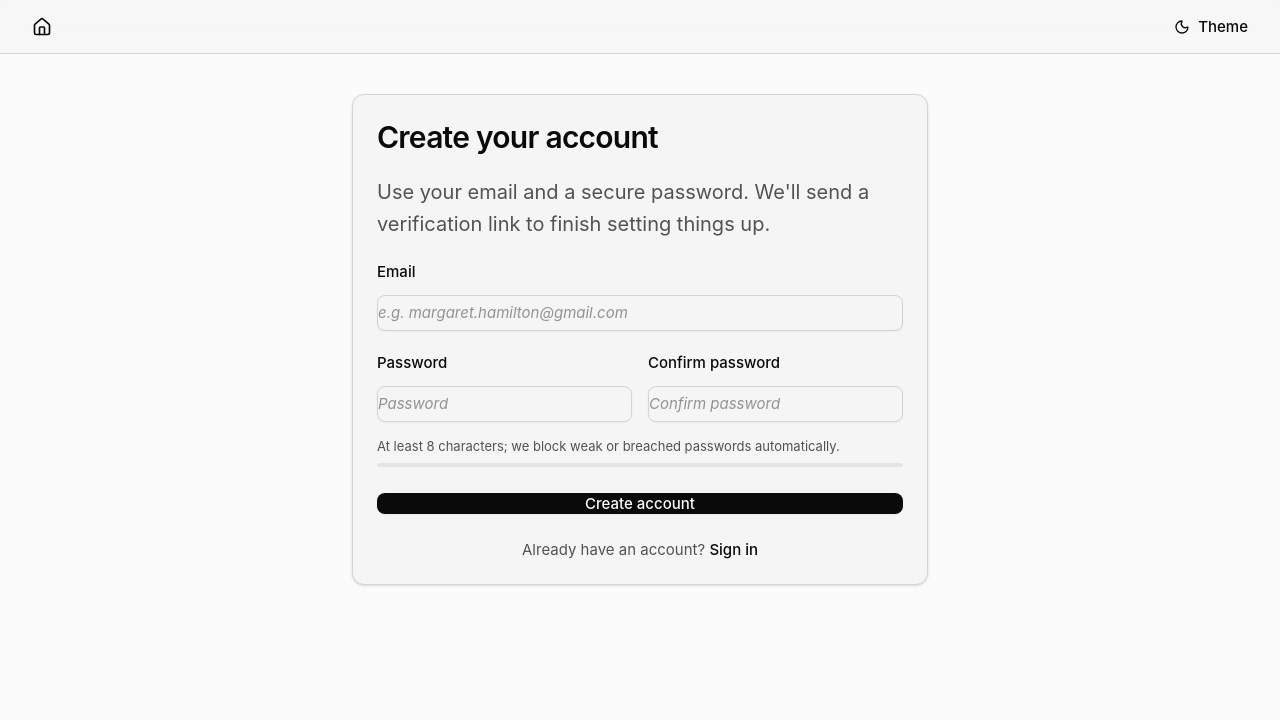
Test: SignUp › requires matching passwords
Type "ada@gen.new" into the field labelled "Email" at point(640, 313), box [377,295,903,331]
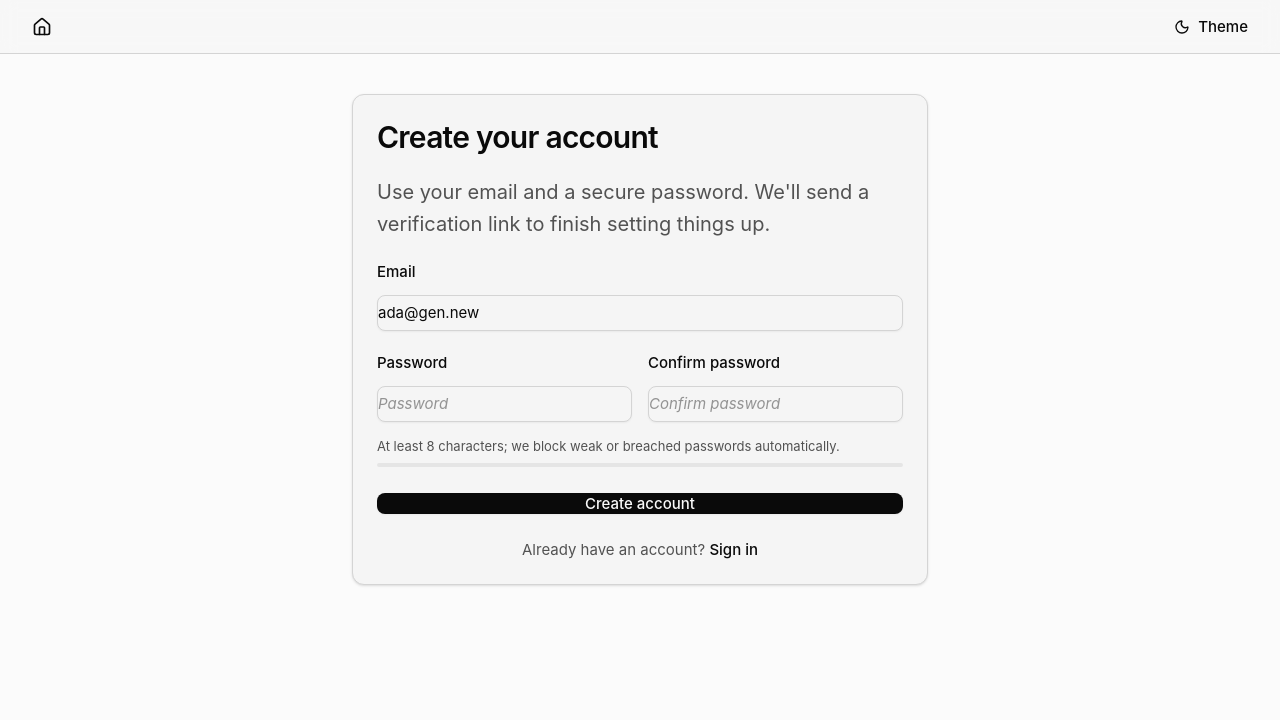
Type "correct horse battery" into the password field labelled "Password" at point(504, 404), box [377,386,632,422]
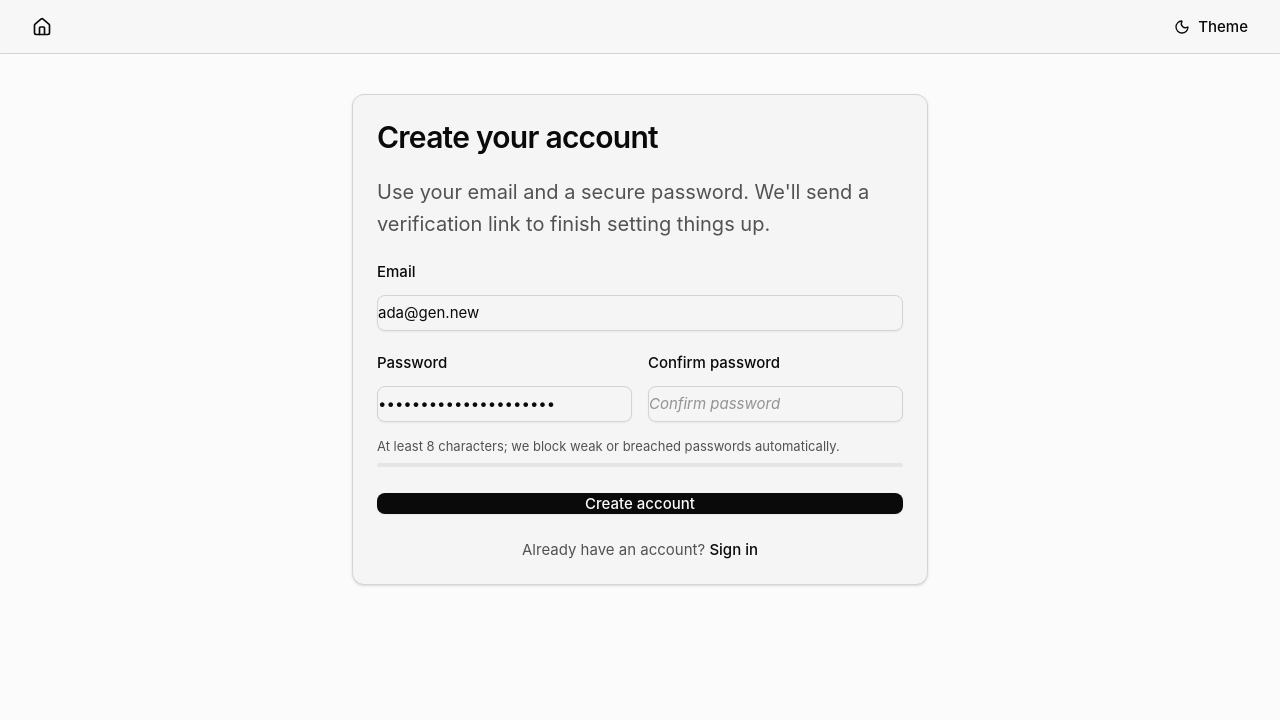
Type "different battery" into the password field labelled "Confirm password" at point(776, 404), box [648,386,903,422]
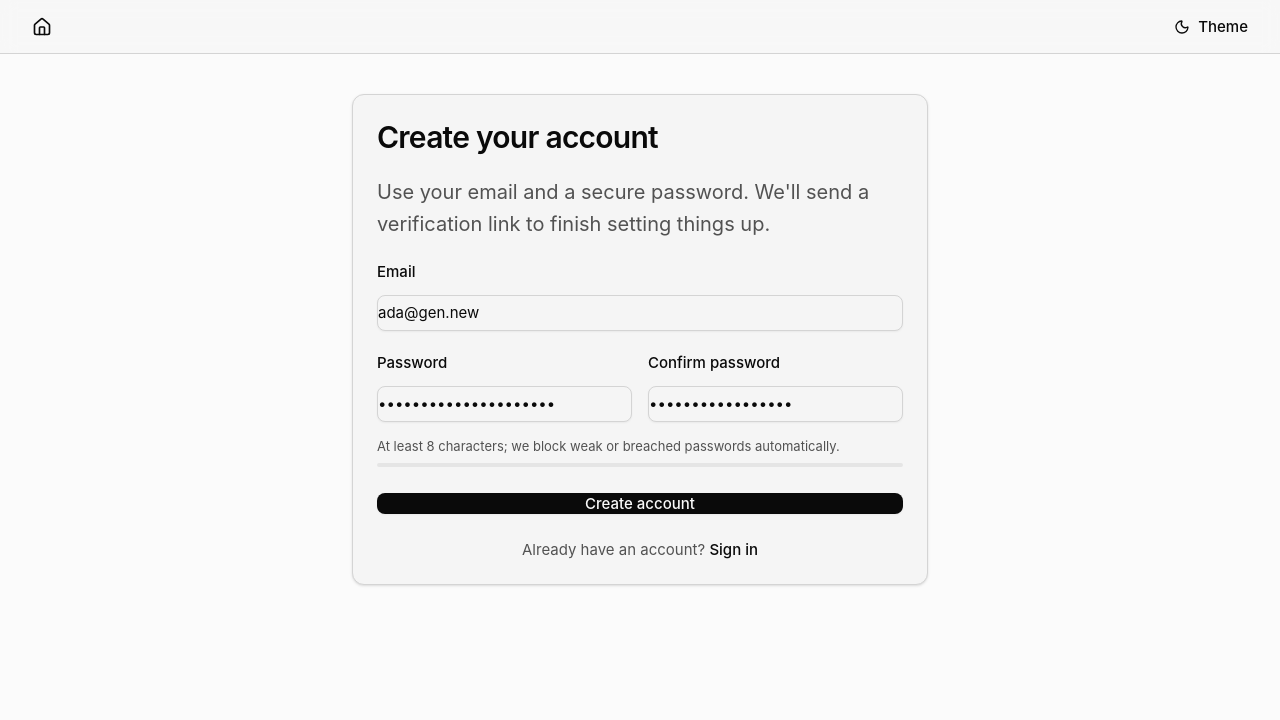
Click the button "Create account" at point(640, 504), box [377,493,903,514]
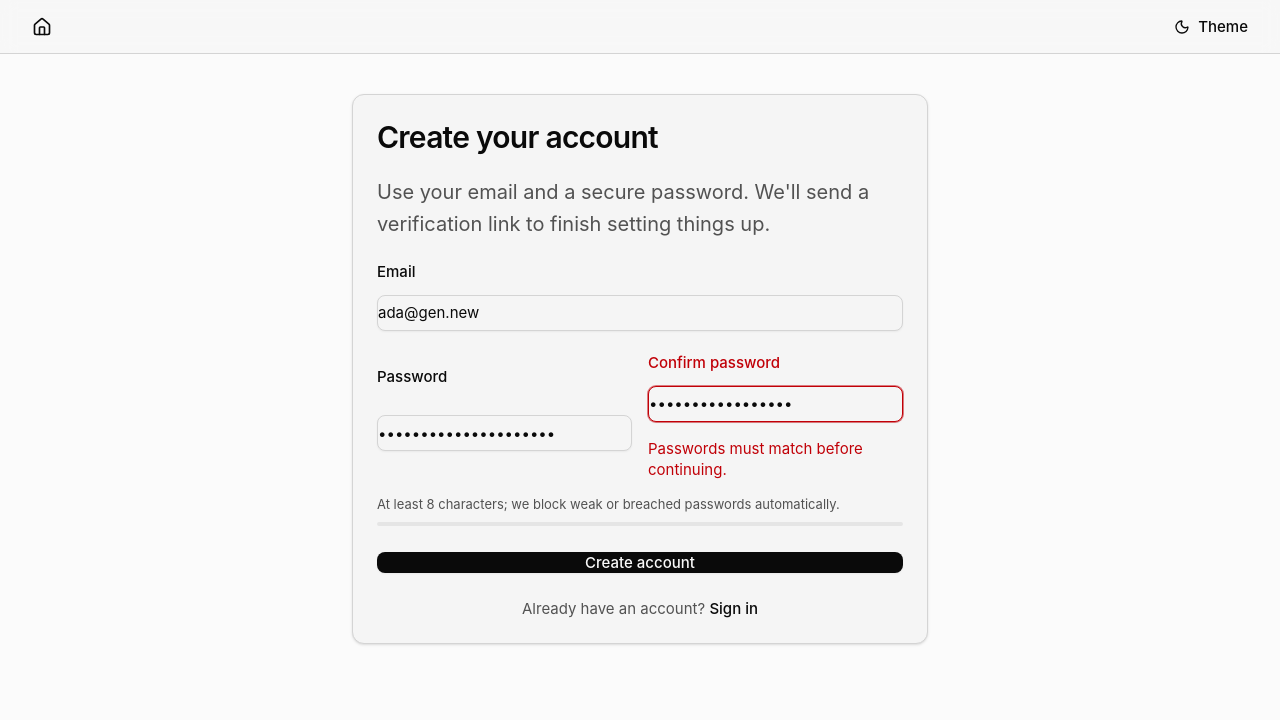
Expected: the text "Passwords must match before continuing." is shown, [648,439,863,479]
